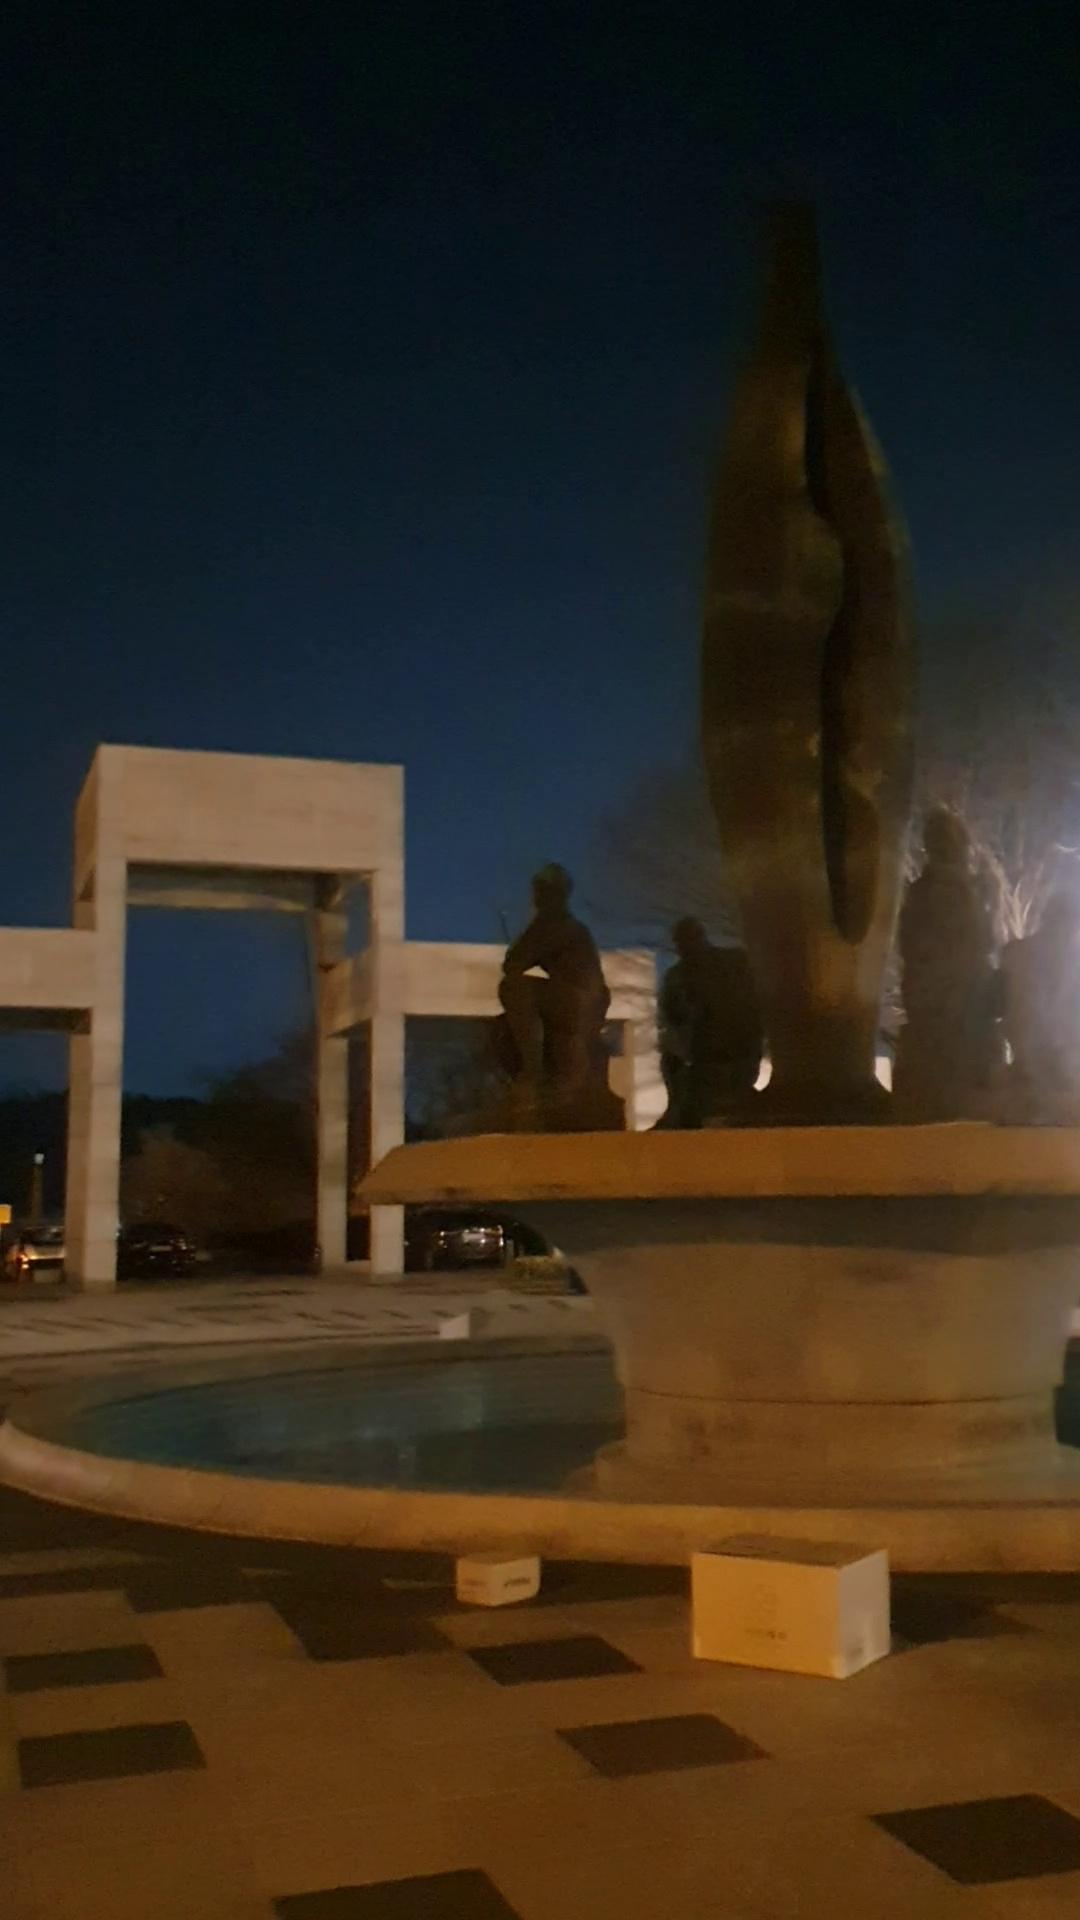Box: (694, 1523, 899, 1680), (451, 1538, 553, 1618)
